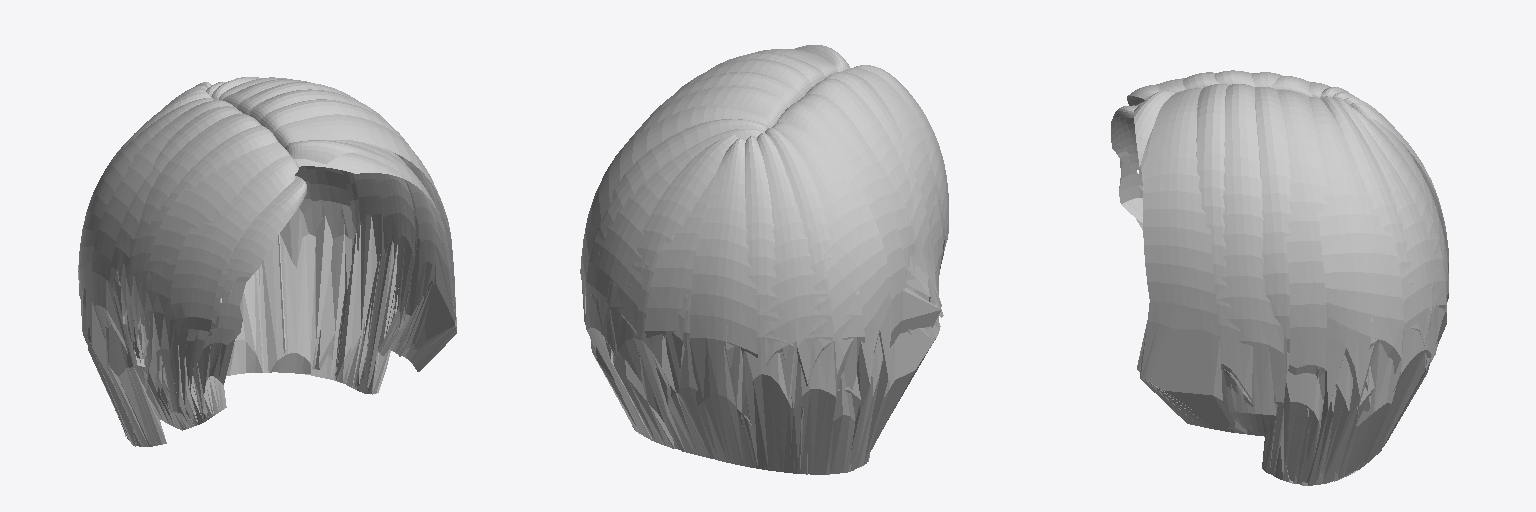
File: fs3dhair.obj
3 renders of one model, left to right at view 1: azimuth 30°, elevation 25°; view 2: azimuth 150°, elevation 25°; view 3: azimuth 270°, elevation 25°, orthographic.
Parts seen in each view (by area): view 1: laslo2_0_0_39, laslo2_0_0_46, laslo2_0_0_43, laslo2_0_0_20, laslo2_0_0_38, laslo2_0_0_18, laslo2_0_0_13, laslo2_0_0_17, laslo2_0_0_31, laslo2_0_0_33, laslo2_0_0_10, laslo2_0_0_9 (+19 smaller); view 2: laslo2_0_0_51, laslo2_0_0_13, laslo2_0_0_15, laslo2_0_0_50, laslo2_0_0_12, laslo2_0_0_48, laslo2_0_0_14, laslo2_0_0_49, laslo2_0_0_18, laslo2_0_0_2, laslo2_0_0_3, laslo2_0_0_31 (+12 smaller); view 3: laslo2_0_0_34, laslo2_0_0_2, laslo2_0_0, laslo2_0_0_1, laslo2_0_0_0, laslo2_0_0_12, laslo2_0_0_3, laslo2_0_0_35, laslo2_0_0_7, laslo2_0_0_48, laslo2_0_0_46, laslo2_0_0_54 (+3 smaller).
Part boxes in pixels (x1,y1,x2,y2): laslo2_0_0_39: (129, 125, 277, 430); laslo2_0_0_46: (190, 176, 306, 423); laslo2_0_0_43: (170, 156, 298, 331); laslo2_0_0_20: (259, 166, 315, 373); laslo2_0_0_38: (147, 142, 290, 429); laslo2_0_0_18: (86, 100, 236, 381); laslo2_0_0_13: (78, 98, 213, 446); laslo2_0_0_17: (110, 106, 242, 445); laslo2_0_0_31: (114, 113, 260, 359); laslo2_0_0_33: (358, 141, 454, 360); laslo2_0_0_10: (278, 166, 353, 374); laslo2_0_0_9: (312, 168, 371, 386); laslo2_0_0_51: (689, 138, 765, 469); laslo2_0_0_13: (772, 122, 890, 474); laslo2_0_0_15: (757, 133, 835, 474); laslo2_0_0_50: (726, 136, 794, 473); laslo2_0_0_12: (586, 129, 764, 448); laslo2_0_0_48: (610, 135, 738, 457); laslo2_0_0_14: (765, 128, 864, 474); laslo2_0_0_49: (644, 172, 716, 458); laslo2_0_0_18: (775, 102, 938, 422); laslo2_0_0_2: (581, 105, 771, 429); laslo2_0_0_3: (580, 119, 768, 440); laslo2_0_0_31: (805, 79, 943, 317); laslo2_0_0_34: (1140, 88, 1234, 432); laslo2_0_0_2: (1302, 97, 1403, 485); laslo2_0_0: (1216, 84, 1283, 473); laslo2_0_0_1: (1273, 90, 1352, 472); laslo2_0_0_0: (1255, 87, 1318, 483); laslo2_0_0_12: (1332, 97, 1446, 469); laslo2_0_0_3: (1320, 96, 1431, 470); laslo2_0_0_35: (1196, 84, 1258, 435); laslo2_0_0_7: (1273, 360, 1321, 483); laslo2_0_0_48: (1351, 107, 1448, 450); laslo2_0_0_46: (1111, 105, 1143, 229); laslo2_0_0_54: (1134, 90, 1176, 166).
Bounding box in the file's own units: 17.76 × 19.29 × 17.11.